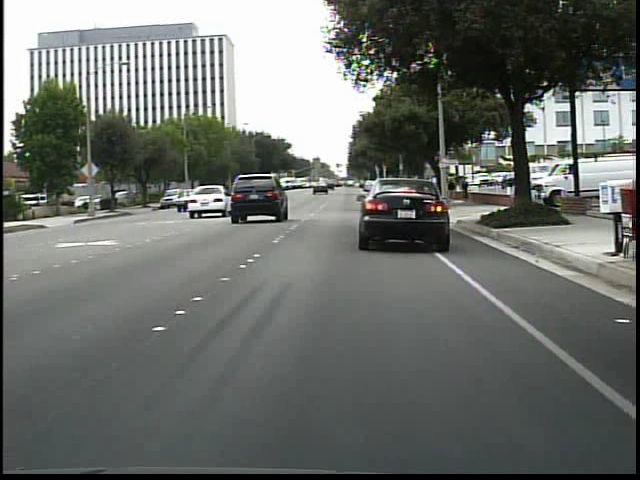person: (459, 175, 471, 205), (444, 177, 457, 202)
